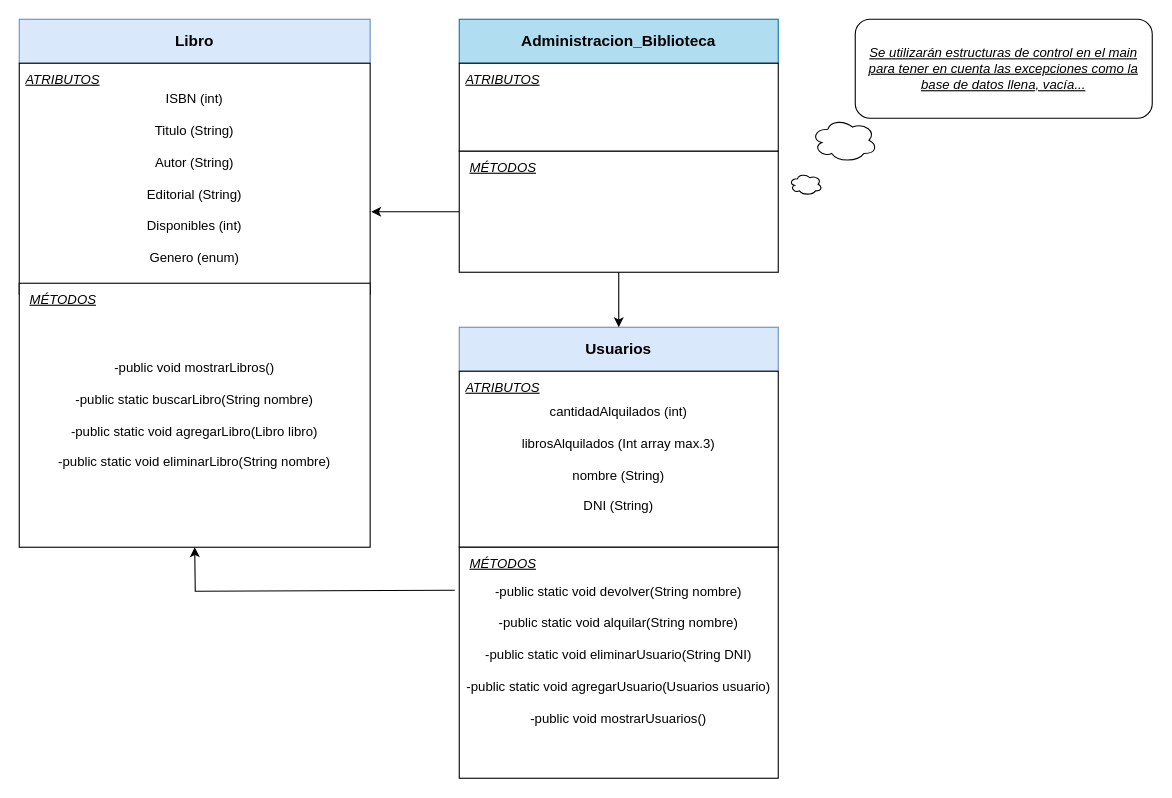
Some shapes in this 1172 by 798 pixel diagram are drawn without their labels. Here are the shapes that lost their labels. From the top down, the box of each, then its label:
(458, 62, 778, 151): libros (array de hasta 100 libros) usuarios (array de hasta 100 usuarios)
(458, 150, 778, 272): main do (Menú con 10 opciones y switch) while !=1
